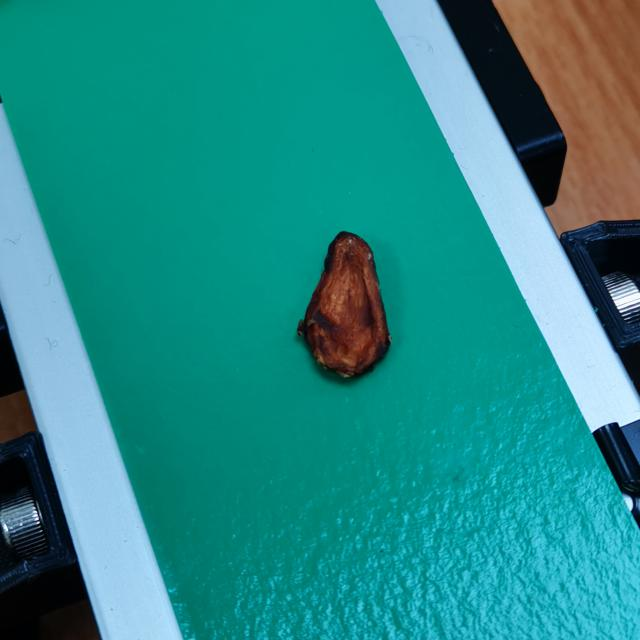Flat_cocoabeans: (211, 177, 458, 427)
